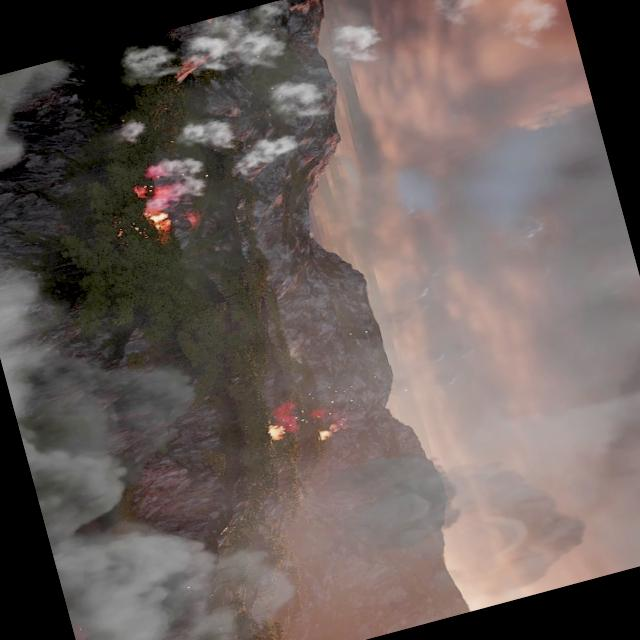fire: (144, 210, 172, 233), (266, 423, 285, 442), (316, 428, 330, 441)
smoke: (0, 207, 312, 640), (316, 416, 592, 630), (114, 0, 295, 100), (0, 56, 96, 190), (126, 150, 214, 215), (490, 0, 565, 54), (324, 15, 389, 70), (262, 73, 328, 127), (228, 129, 304, 175), (175, 114, 236, 161), (422, 0, 495, 32), (270, 393, 324, 433), (110, 117, 146, 145)
